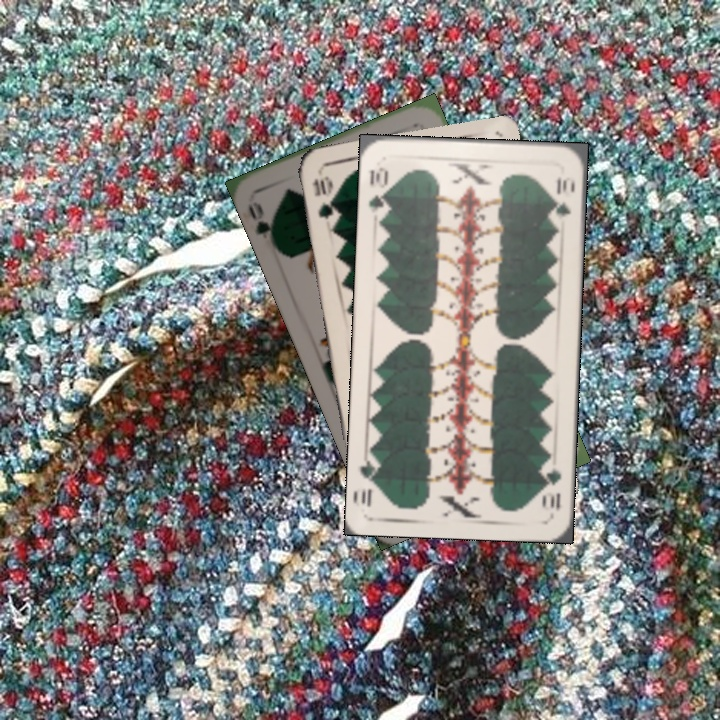G10: (364, 163, 392, 219), (309, 172, 337, 222), (539, 465, 564, 512)
GO: (243, 197, 280, 251)
